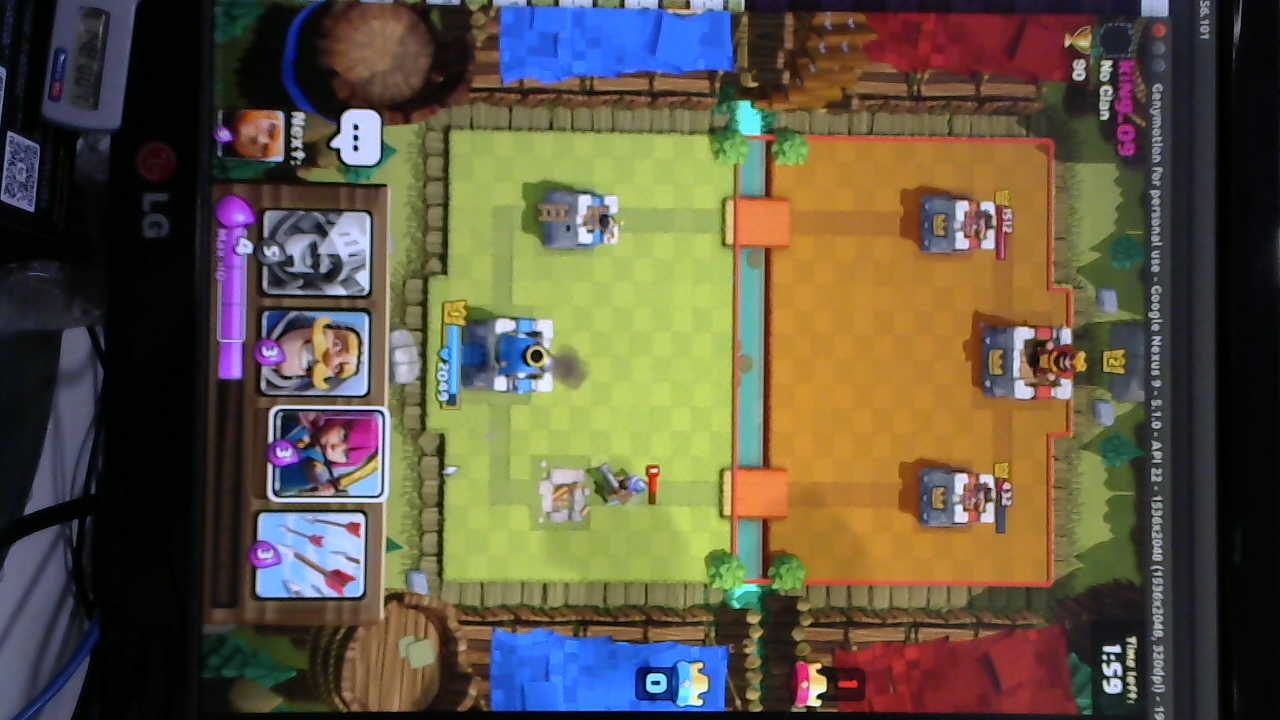arena: (546, 191, 625, 249)
darena: (536, 466, 591, 531)
earena: (915, 197, 997, 256), (922, 470, 999, 530)
eking: (986, 324, 1089, 400)
king: (471, 314, 557, 398)
musketeer: (599, 463, 646, 508)
